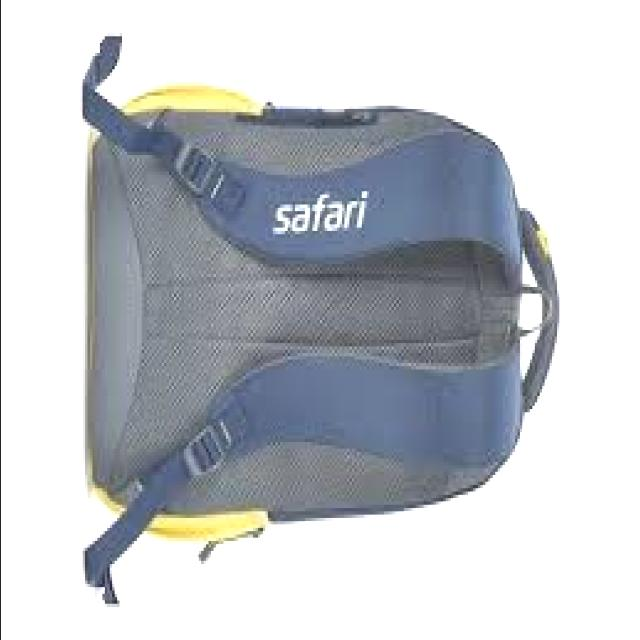backpack: (82, 35, 562, 605)
